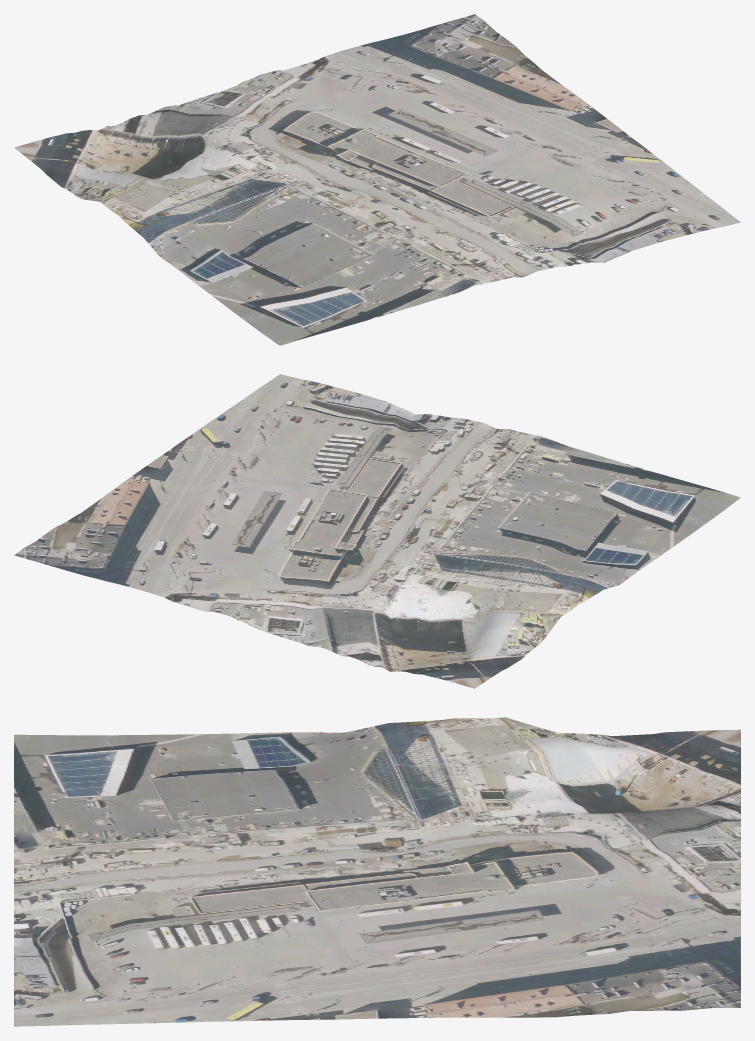
File: CM_Terrain_24487592_6820408.fbx
3 renders of one model, top to bottom at view 1: azimuth 30°, elevation 25°; view 2: azimuth 150°, elevation 25°; view 3: azimuth 270°, elevation 25°, orthographic. The views are drawn at different scales.
Visible parts, largest first — view 1: CM_Terrain_24487592_6820408_LOD0; view 2: CM_Terrain_24487592_6820408_LOD0; view 3: CM_Terrain_24487592_6820408_LOD0.
Part boxes in pixels (left/top/right/bottom): CM_Terrain_24487592_6820408_LOD0: left=14, top=14, right=740, bottom=345; CM_Terrain_24487592_6820408_LOD0: left=14, top=374, right=740, bottom=688; CM_Terrain_24487592_6820408_LOD0: left=14, top=717, right=740, bottom=1026.
Size of what is drawn, in the model's own units: 205 by 14.49 by 205.
